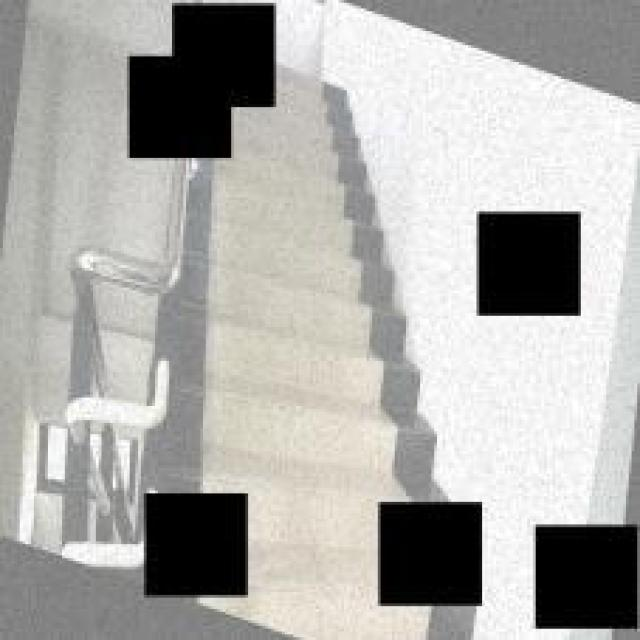upstair: (204, 182, 430, 483)
